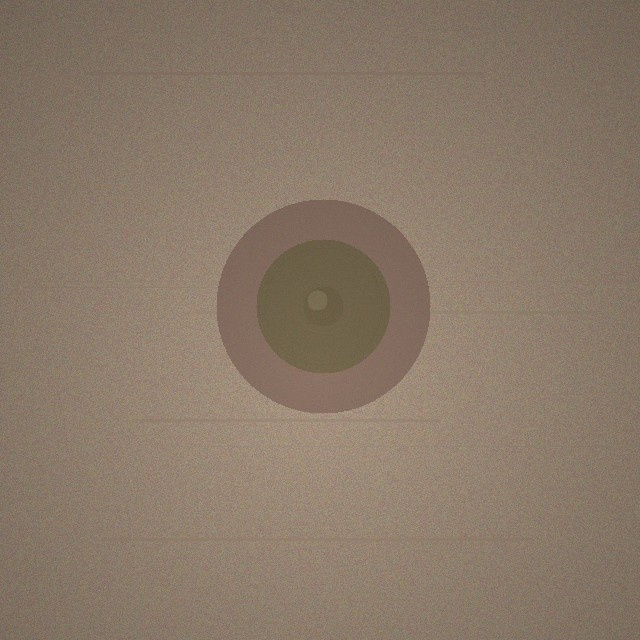good: (216, 199, 430, 413)
